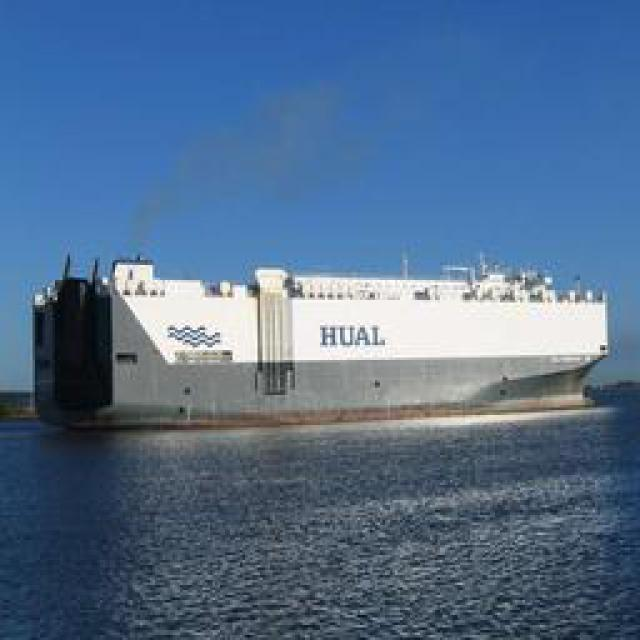Ship: (95, 260, 608, 385)
